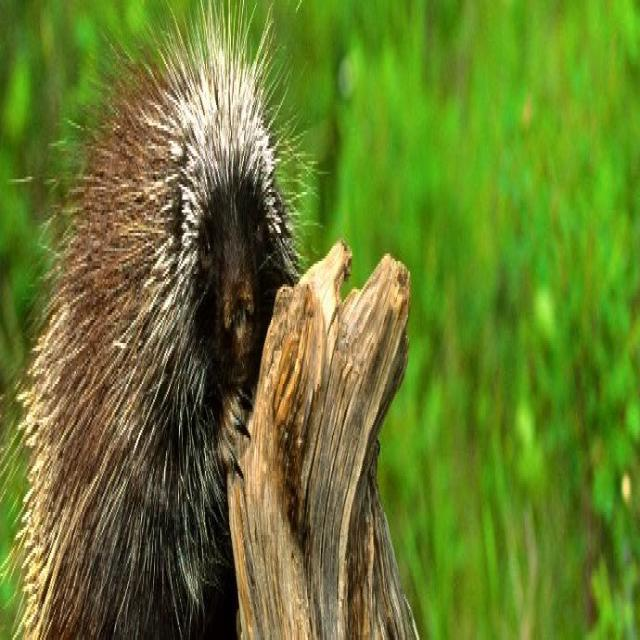Porcupine: (29, 43, 282, 640)
